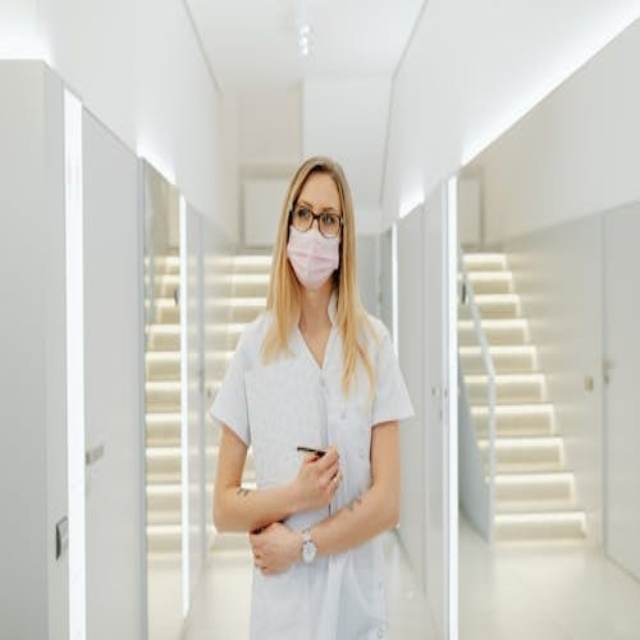Gafas: (289, 205, 344, 237)
Mascara: (286, 224, 340, 289)
Sin_guantes: (291, 438, 346, 515), (248, 521, 301, 576)
